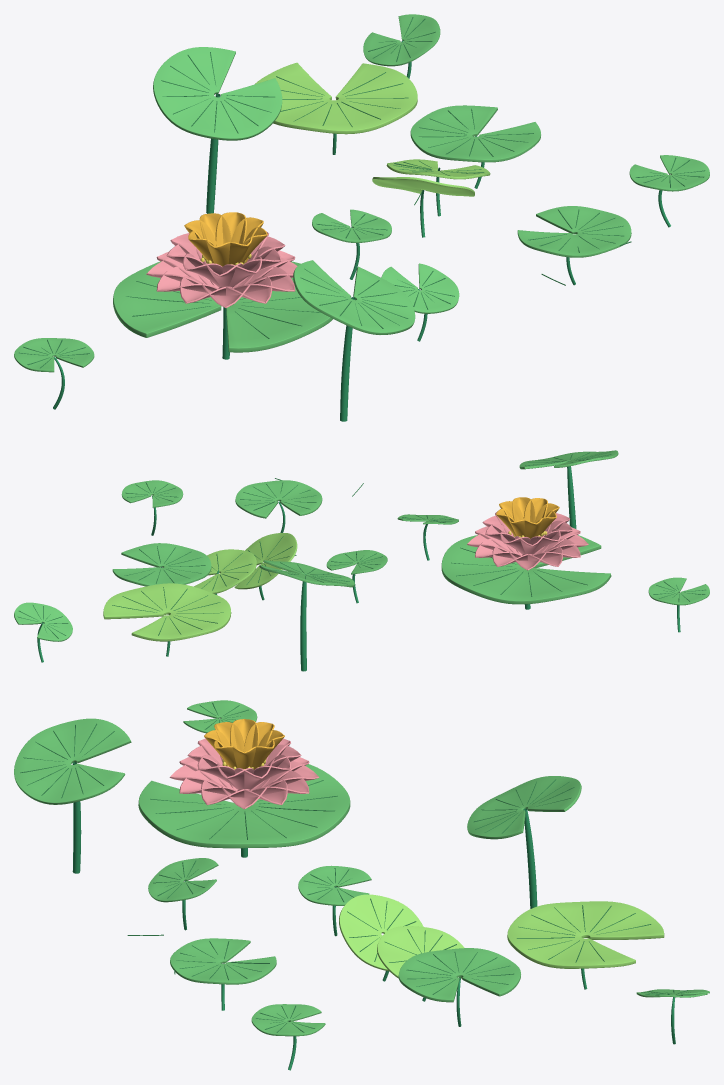
File: lotus_and_lilypads_003.glb
The picture shows the model from 3 angles, top to bottom: view 1: azimuth 30°, elevation 25°; view 2: azimuth 150°, elevation 25°; view 3: azimuth 270°, elevation 25°; orthographic projection. The views are drawn at different scales.
Parts seen in each view (by area): view 1: LotusPad.003, LilyPad_01.006, LilyPad_02.003, LilyPad_01.011, LilyPad_01.005, LilyPad_03.003, LilyPad_05.004, LilyPad_05.013, LilyPad_05.011, LilyPad_05.003, LilyPad_05.012, LilyPad_04.006 (+5 smaller); view 2: LotusPad.003, LilyPad_02.003, LilyPad_01.005, LilyPad_03.003, LilyPad_04.006, LilyPad_04.005, LilyPad_05.004, LilyPad_01.006, LilyPad_05.003, LilyPad_05.011, LilyPad_05.012, LilyPad_01.011 (+6 smaller); view 3: LotusPad.003, LilyPad_02.003, LilyPad_01.011, LilyPad_01.005, LilyPad_01.006, LilyPad_03.003, LilyPad_04.005, LilyPad_04.006, LilyPad_05.013, LilyPad_05.012, LilyPad_05.003, LilyPad_05.011 (+4 smaller).
Part boxes in pixels (x1,y1,x2,y2): LotusPad.003: [113, 261, 332, 352]; LilyPad_01.006: [153, 47, 282, 140]; LilyPad_02.003: [255, 62, 417, 134]; LilyPad_01.011: [293, 260, 415, 334]; LilyPad_01.005: [410, 105, 540, 162]; LilyPad_03.003: [517, 206, 631, 257]; LilyPad_05.004: [363, 14, 440, 66]; LilyPad_05.013: [381, 263, 459, 313]; LilyPad_05.011: [14, 338, 94, 372]; LilyPad_05.003: [629, 155, 709, 191]; LilyPad_05.012: [312, 209, 391, 242]; LilyPad_04.006: [386, 159, 490, 179]; LotusPad.003: [441, 535, 611, 604]; LilyPad_02.003: [103, 583, 231, 641]; LilyPad_01.005: [112, 543, 211, 586]; LilyPad_03.003: [235, 480, 322, 518]; LilyPad_04.006: [194, 549, 256, 593]; LilyPad_04.005: [234, 533, 297, 589]; LilyPad_05.004: [14, 602, 72, 641]; LilyPad_01.006: [259, 560, 354, 587]; LilyPad_05.003: [121, 480, 183, 507]; LilyPad_05.011: [648, 577, 709, 605]; LilyPad_05.012: [326, 550, 387, 574]; LilyPad_01.011: [519, 450, 618, 469]; LotusPad.003: [138, 764, 350, 848]; LilyPad_02.003: [507, 901, 664, 968]; LilyPad_01.011: [14, 718, 131, 804]; LilyPad_01.005: [398, 948, 520, 1002]; LilyPad_01.006: [467, 776, 581, 839]; LilyPad_03.003: [170, 938, 276, 984]; LilyPad_04.005: [339, 894, 423, 971]; LilyPad_04.006: [377, 926, 464, 978]; LilyPad_05.013: [148, 858, 218, 902]; LilyPad_05.012: [298, 865, 371, 905]; LilyPad_05.003: [251, 1004, 325, 1036]; LilyPad_05.011: [183, 700, 257, 733].
Size of the model in its own units: 9.96 by 1.94 by 8.86.
